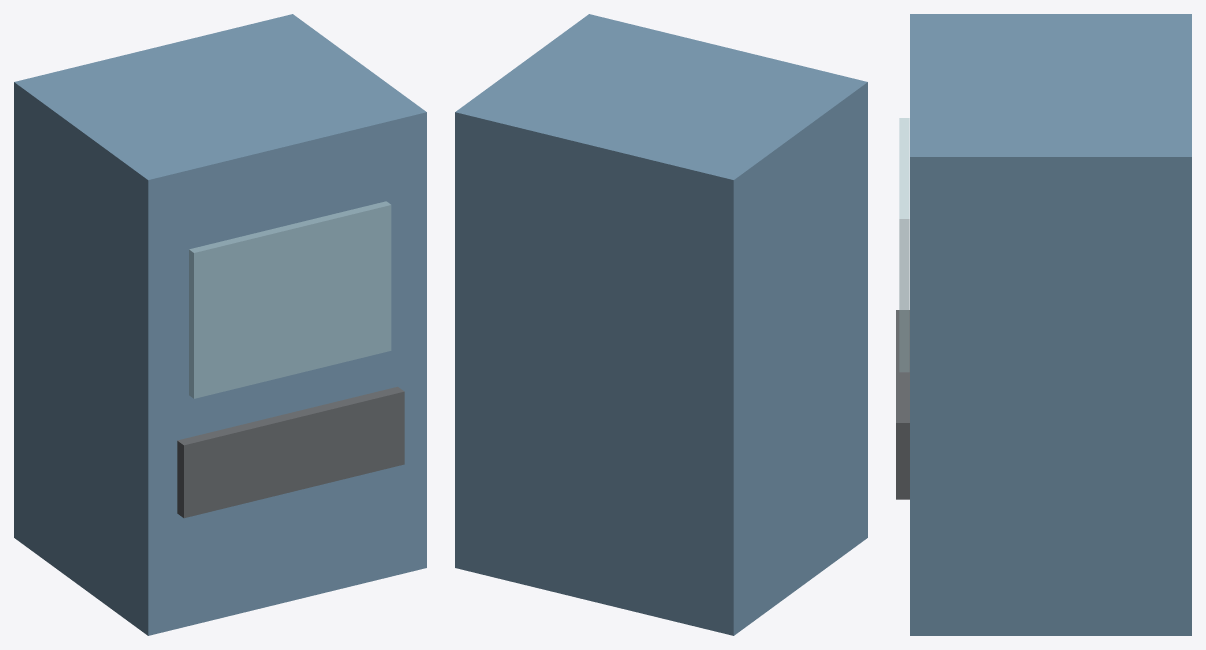
File: newspaper_box_04.glb
3 renders of one model, left to right at view 1: azimuth 30°, elevation 25°; view 2: azimuth 150°, elevation 25°; view 3: azimuth 270°, elevation 25°, orthographic. The views are drawn at different scales.
Parts seen in each view (by area): view 1: body, window, door; view 2: body; view 3: body, window, door.
Part boxes in pixels (left/top/right/bottom): body: left=14, top=14, right=426, bottom=635; window: left=189, top=201, right=391, bottom=398; door: left=177, top=386, right=404, bottom=518; body: left=455, top=14, right=867, bottom=635; body: left=910, top=14, right=1191, bottom=635; window: left=899, top=118, right=909, bottom=372; door: left=896, top=310, right=909, bottom=499.
Bounding box in the file's own units: 0.48 × 0.75 × 0.42.
